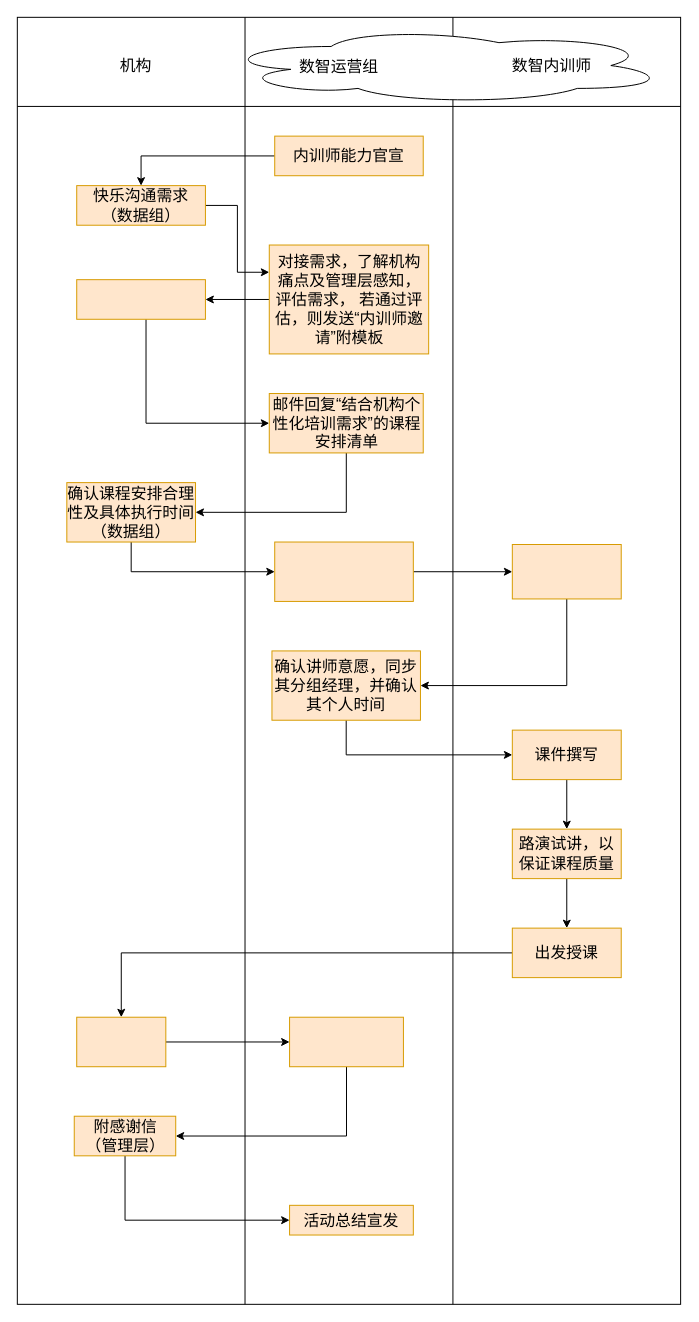
Some shapes in this 699 by 1322 pixel diagram are drawn without their labels. The box of each missing label's shape, as (x1, y1, x2, y2) in pixels:
发布邀请邮件 （管理层）: (76, 279, 205, 319)
对接数智内训师: (274, 541, 413, 601)
接受任务: (511, 544, 621, 599)
结课评价 （数据组）: (76, 1016, 166, 1067)
追踪后续应用情况: (289, 1016, 403, 1067)
